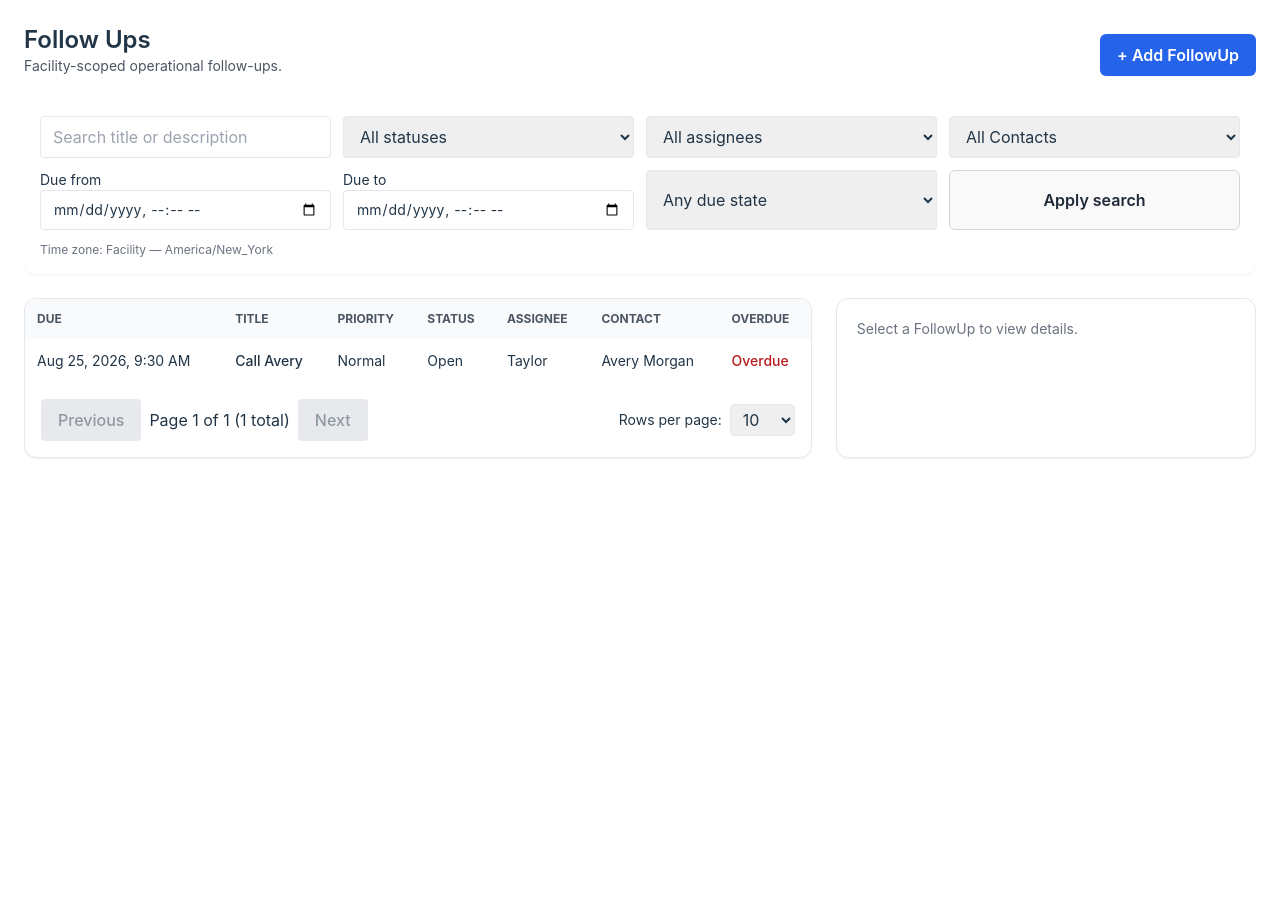
Test: FollowUpsPage › clears page and form errors when Facility changes
Click the button "+ Add FollowUp".
click(1178, 55)  # box [1100,34,1256,76]
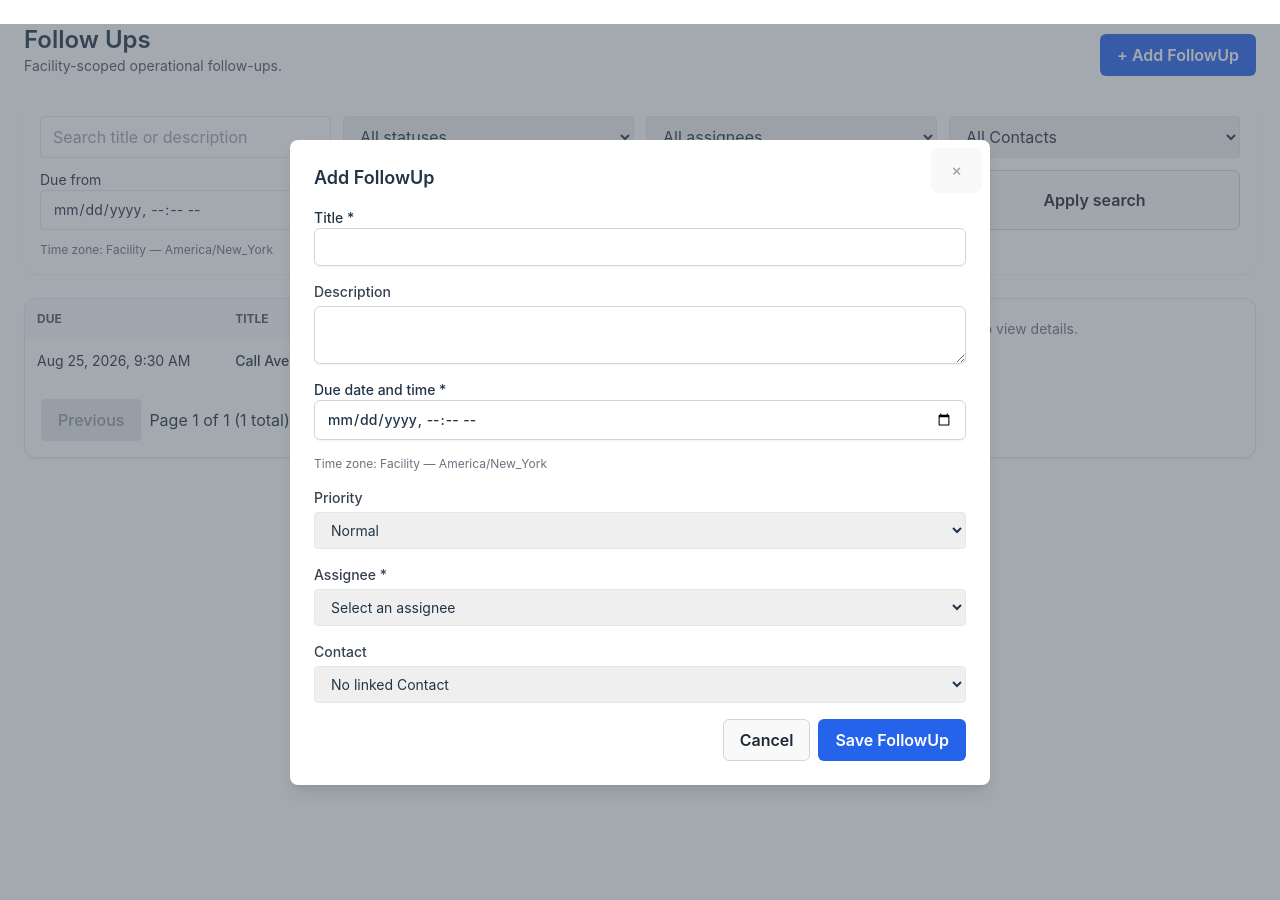
Type "Error state" into the field labelled "Title *".
click(640, 246); type("Error state")  # box [314,228,966,266]
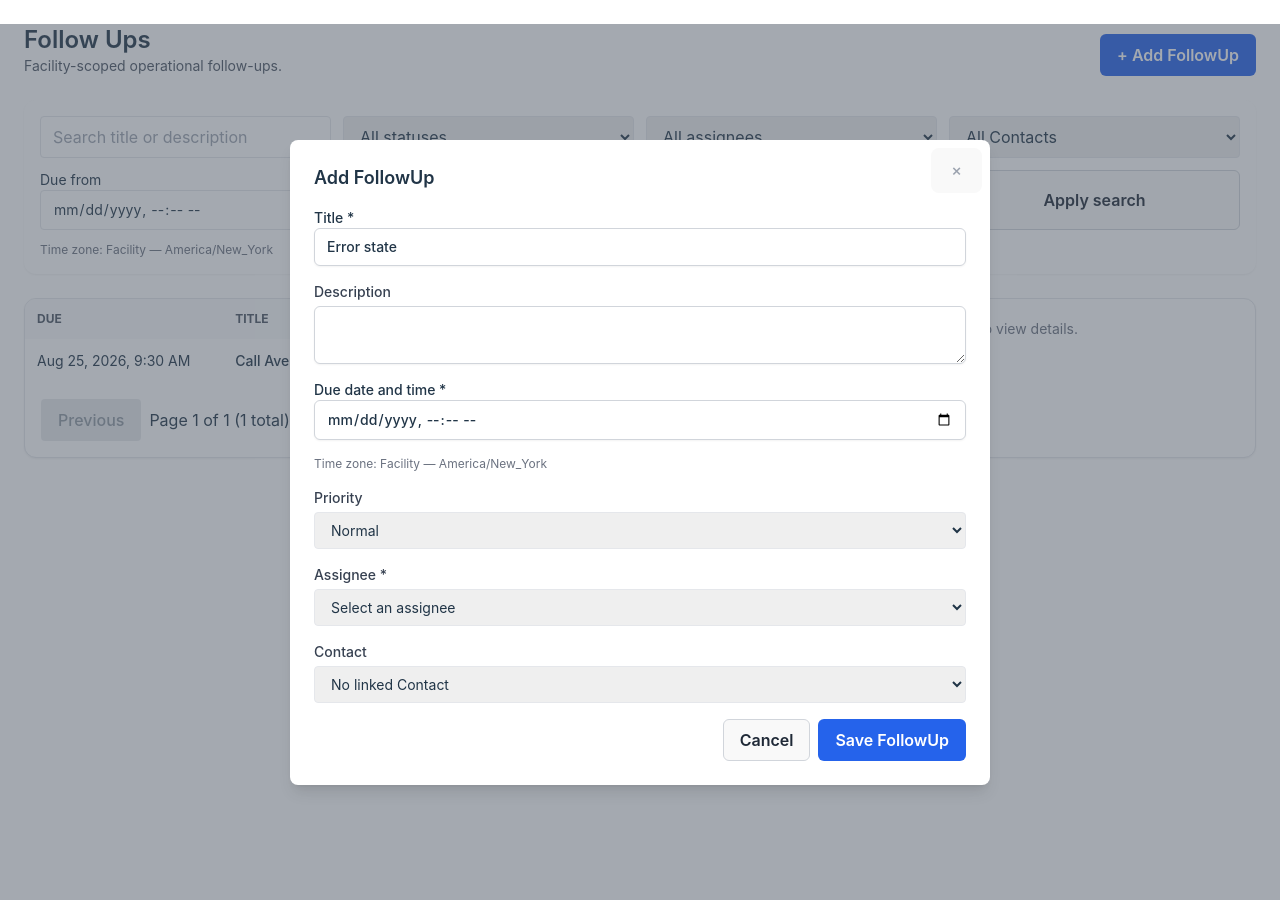
Type "2026-08-25T09:30" into the field labelled "Due date and time *".
click(640, 420); type("2026-08-25T09:30")  # box [314,400,966,440]
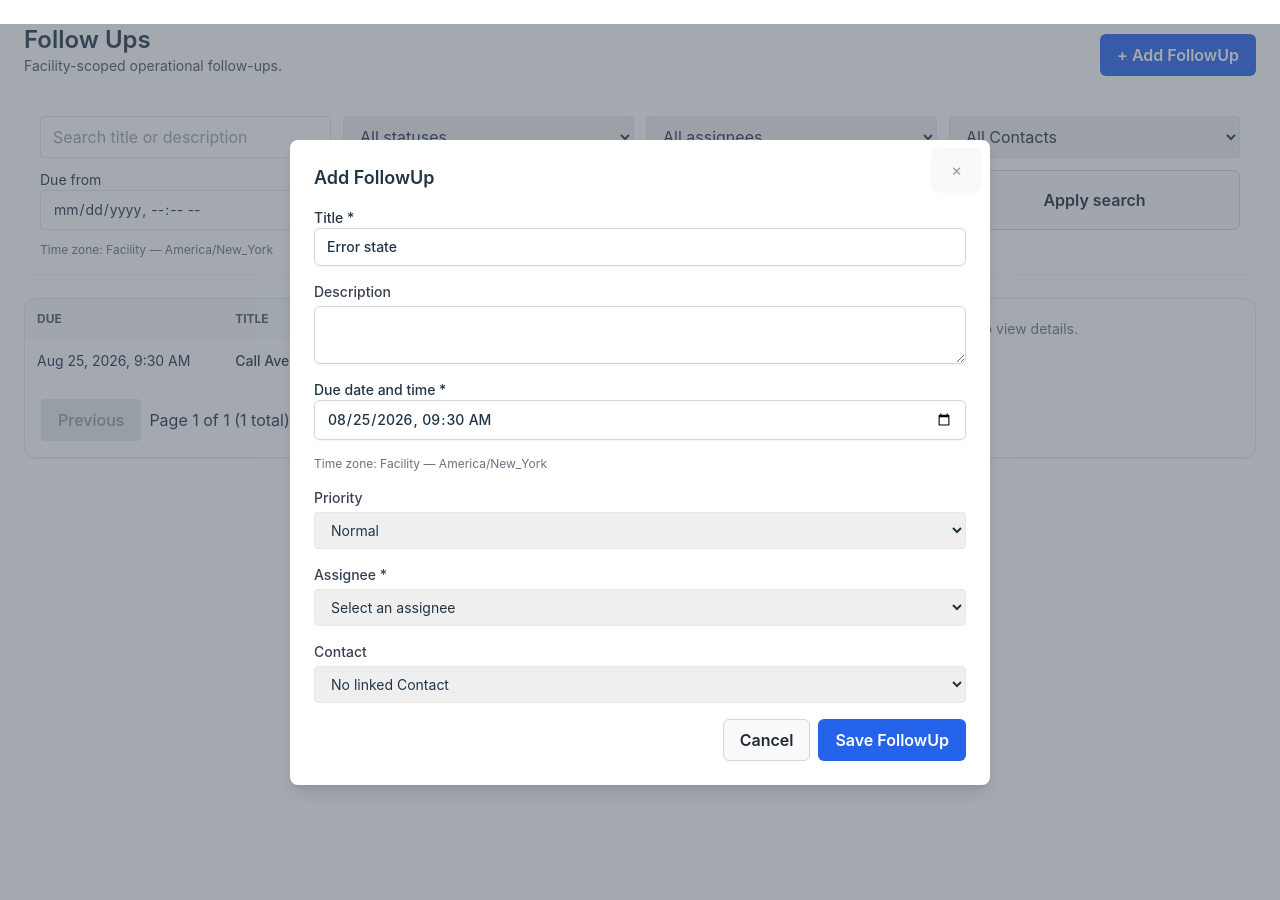
Select "Taylor (technician)" in the dropdown named "assignee" at (640, 607), box [314,588,966,626]
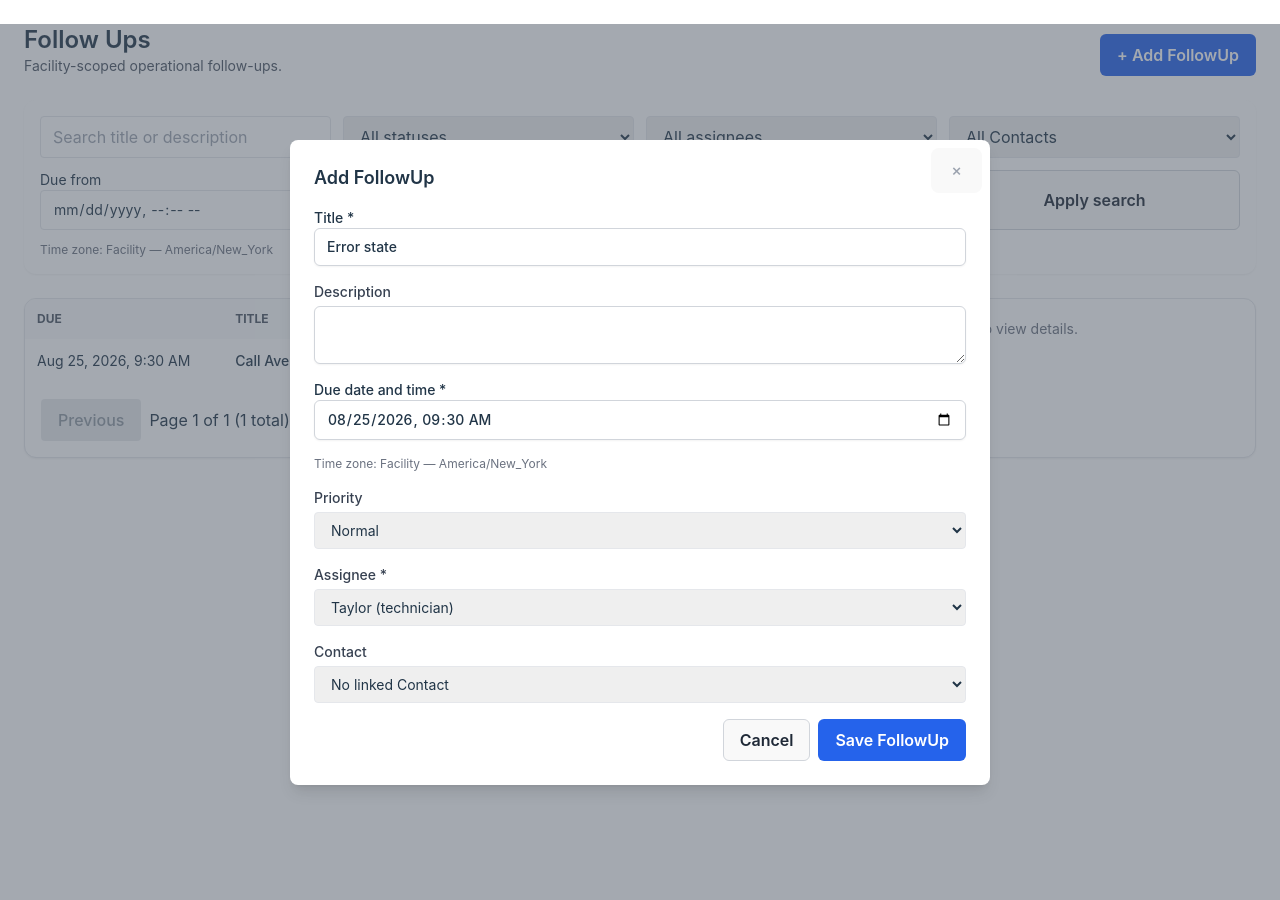
Click the button "Save FollowUp".
click(892, 740)  # box [818,718,966,760]
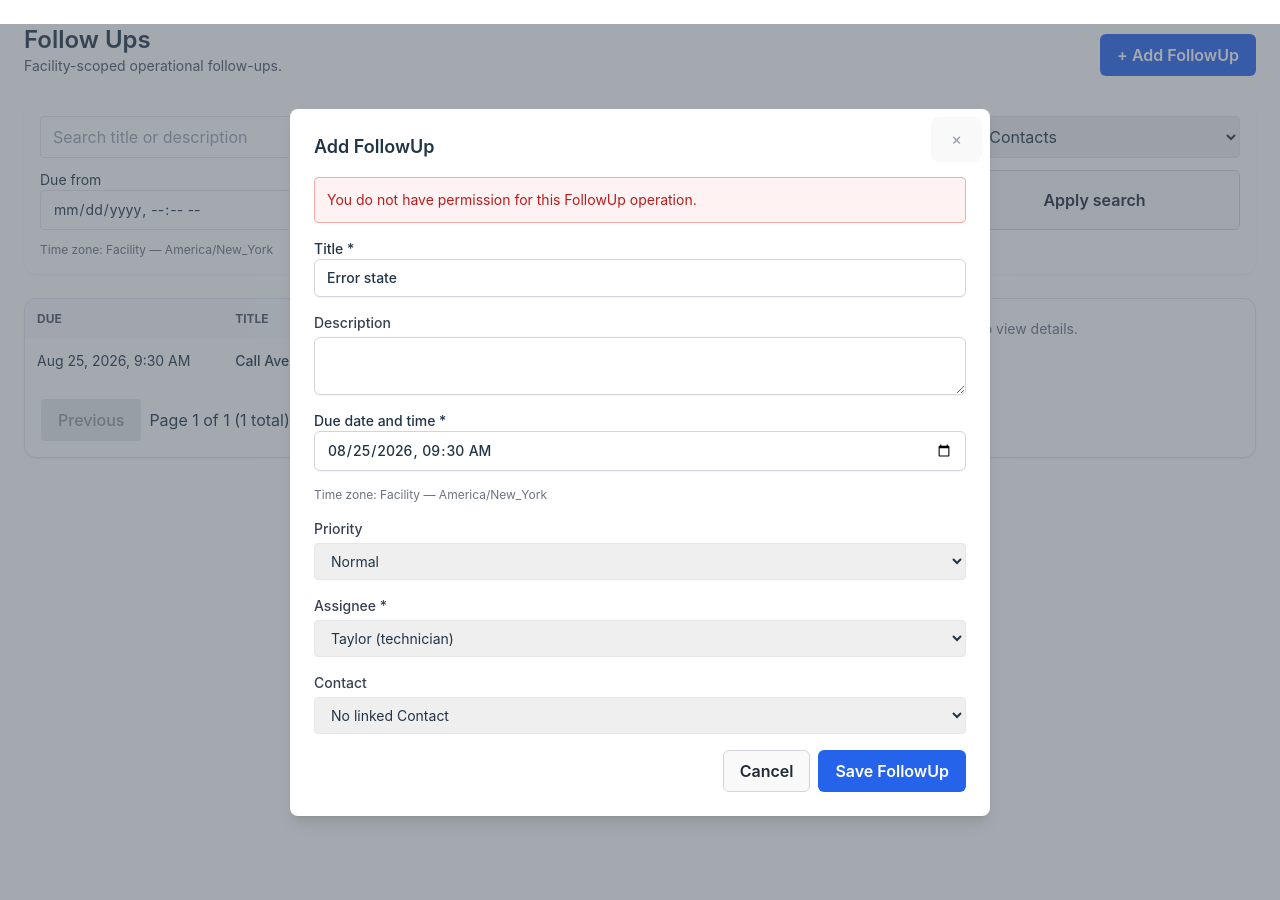
Expected: the message "You do not have permission for this FollowUp operation." is shown, [314,176,966,222]
